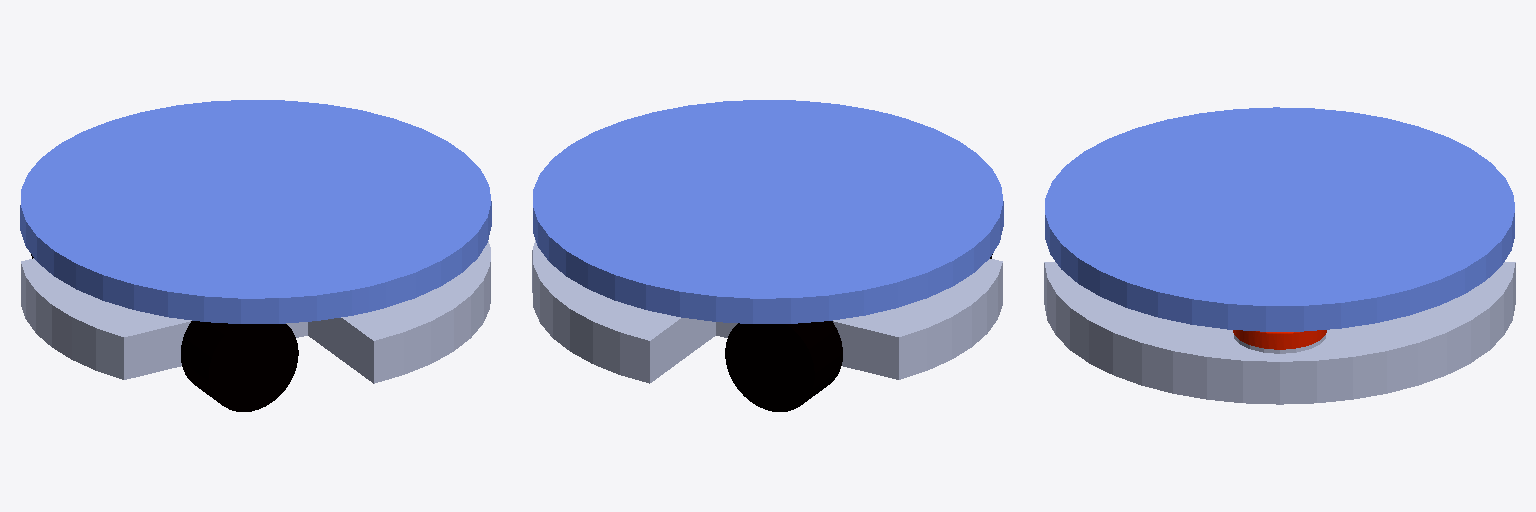
URDF robot description (diff_offset_robot):
<!-- ?xml version="1.0" encoding="utf-8"? -->
<!-- This URDF was automatically created by SolidWorks to URDF Exporter! Originally created by [author] ([email redacted]) 
     Commit Version: 1.6.0-4-g7f85cfe  Build Version: 1.6.7995.38578
     For more information, please see http://wiki.ros.org/sw_urdf_exporter -->
<robot
  name="diff_offset_robot">
  <link
    name="base_link">
    <inertial>
      <origin
        xyz="0.13872 4.8572E-17 0.00028145"
        rpy="0 0 0" />
      <mass
        value="7.674" />
      <inertia
        ixx="0.089217"
        ixy="-1.7267E-17"
        ixz="-0.00013721"
        iyy="0.12655"
        iyz="-9.8696E-20"
        izz="0.21249" />
    </inertial>
    <visual>
      <origin
        xyz="0 0 0"
        rpy="0 0 0" />
      <geometry>
        <mesh
          filename="package://model_robot/meshes/base_link.STL" />
      </geometry>
      <material
        name="">
        <color
          rgba="0.79216 0.81961 0.93333 1" />
      </material>
    </visual>
    <collision>
      <origin
        xyz="0 0 0"
        rpy="0 0 0" />
      <geometry>
        <mesh
          filename="package://model_robot/meshes/base_link.STL" />
      </geometry>
    </collision>
  </link>
  <link
    name="left_wheel_link">
    <inertial>
      <origin
        xyz="-2.2204E-16 1.0408E-16 0.03"
        rpy="0 0 0" />
      <mass
        value="0.5702" />
      <inertia
        ixx="0.00060227"
        ixy="3.0493E-20"
        ixz="2.7449E-20"
        iyy="0.00060227"
        iyz="1.0109E-20"
        izz="0.00086243" />
    </inertial>
    <visual>
      <origin
        xyz="0 0 0"
        rpy="0 0 0" />
      <geometry>
        <mesh
          filename="package://model_robot/meshes/left_wheel_link.STL" />
      </geometry>
      <material
        name="">
        <color
          rgba="0.019608 0 0 1" />
      </material>
    </visual>
    <collision>
      <origin
        xyz="0 0 0"
        rpy="0 0 0" />
      <geometry>
        <mesh
          filename="package://model_robot/meshes/left_wheel_link.STL" />
      </geometry>
    </collision>
  </link>
  <joint
    name="left_wheel_joint"
    type="continuous">
    <origin
      xyz="0 0.13 0"
      rpy="-1.5708 0.05745 0" />
    <parent
      link="base_link" />
    <child
      link="left_wheel_link" />
    <axis
      xyz="0 0 1" />
    <limit
      effort="100"
      velocity="100" />
    <dynamics
      damping="0.1"
      friction="0.1" />
  </joint>
  <link
    name="right_wheel_link">
    <inertial>
      <origin
        xyz="4.4409E-16 0 -0.03"
        rpy="0 0 0" />
      <mass
        value="0.5702" />
      <inertia
        ixx="0.00060227"
        ixy="3.7058E-22"
        ixz="2.7105E-20"
        iyy="0.00060227"
        iyz="4.2352E-22"
        izz="0.00086243" />
    </inertial>
    <visual>
      <origin
        xyz="0 0 0"
        rpy="0 0 0" />
      <geometry>
        <mesh
          filename="package://model_robot/meshes/right_wheel_link.STL" />
      </geometry>
      <material
        name="">
        <color
          rgba="0.019608 0 0 1" />
      </material>
    </visual>
    <collision>
      <origin
        xyz="0 0 0"
        rpy="0 0 0" />
      <geometry>
        <mesh
          filename="package://model_robot/meshes/right_wheel_link.STL" />
      </geometry>
    </collision>
  </link>
  <joint
    name="right_wheel_joint"
    type="continuous">
    <origin
      xyz="0 -0.13 0"
      rpy="-1.5708 0 0" />
    <parent
      link="base_link" />
    <child
      link="right_wheel_link" />
    <axis
      xyz="0 0 1" />
    <limit
      effort="100"
      velocity="100" />
    <dynamics
      damping="0.1"
      friction="0.1" />
  </joint>
  <link
    name="top_base_link">
    <inertial>
      <origin
        xyz="4.4409E-16 -1.5959E-16 0.043846"
        rpy="0 0 0" />
      <mass
        value="6.1261" />
      <inertia
        ixx="0.092849"
        ixy="2.2256E-18"
        ixz="-1.0728E-18"
        iyy="0.092849"
        iyz="-4.4795E-20"
        izz="0.18437" />
    </inertial>
    <visual>
      <origin
        xyz="0 0 0"
        rpy="0 0 0" />
      <geometry>
        <mesh
          filename="package://model_robot/meshes/top_base_link.STL" />
      </geometry>
      <material
        name="">
        <color
          rgba="0.48235 0.61176 1 1" />
      </material>
    </visual>
    <collision>
      <origin
        xyz="0 0 0"
        rpy="0 0 0" />
      <geometry>
        <mesh
          filename="package://model_robot/meshes/top_base_link.STL" />
      </geometry>
    </collision>
  </link>
  <joint
    name="top_base_joint"
    type="revolute">
    <origin
      xyz="0.11225 0 0.03"
      rpy="0 0 0" />
    <parent
      link="base_link" />
    <child
      link="top_base_link" />
    <axis
      xyz="0 0 1" />
    <limit
      lower="0"
      upper="6.2832"
      effort="100"
      velocity="100" />
    <dynamics
      damping="0.1"
      friction="0.1" />
  </joint>
  <link
    name="lidar_link">
    <inertial>
      <origin
        xyz="0 -6.9389E-18 0.0099837"
        rpy="0 0 0" />
      <mass
        value="0.15681" />
      <inertia
        ixx="0.00010306"
        ixy="-4.5175E-21"
        ixz="-1.1806E-21"
        iyy="0.00010306"
        iyz="5.8547E-22"
        izz="0.00019569" />
    </inertial>
    <visual>
      <origin
        xyz="0 0 0"
        rpy="0 0 0" />
      <geometry>
        <mesh
          filename="package://model_robot/meshes/lidar_link.STL" />
      </geometry>
      <material
        name="">
        <color
          rgba="0.94118 0.16863 0 1" />
      </material>
    </visual>
    <collision>
      <origin
        xyz="0 0 0"
        rpy="0 0 0" />
      <geometry>
        <mesh
          filename="package://model_robot/meshes/lidar_link.STL" />
      </geometry>
    </collision>
  </link>
  <joint
    name="lidar_joint"
    type="continuous">
    <origin
      xyz="0.29225 0 0.03"
      rpy="0 0 0" />
    <parent
      link="base_link" />
    <child
      link="lidar_link" />
    <axis
      xyz="0 0 1" />
    <limit
      effort="100"
      velocity="100" />
    <dynamics
      damping="0.1"
      friction="0.1" />
  </joint>

  <link
    name="caster_wheel_link">
    <inertial>
      <origin
        xyz="4.4409E-16 -1.6653E-16 0.01125"
        rpy="0 0 0" />
      <mass
        value="0.056549" />
      <inertia
        ixx="1.3201E-05"
        ixy="-8.4703E-22"
        ixz="6.364E-22"
        iyy="1.3201E-05"
        iyz="8.5178E-20"
        izz="2.0358E-05" />
    </inertial>
    <visual>
      <origin
        xyz="0 0 0"
        rpy="0 0 0" />
      <geometry>
        <mesh
          filename="package://model_robot/meshes/caster_wheel_link.STL" />
      </geometry>
      <material
        name="">
        <color
          rgba="0 0.74118 0.96078 1" />
      </material>
    </visual>
    <collision>
      <origin
        xyz="0 0 0"
        rpy="0 0 0" />
      <geometry>
        <mesh
          filename="package://model_robot/meshes/caster_wheel_link.STL" />
      </geometry>
    </collision>
  </link>
  <joint
    name="caster_wheel_joint"
    type="fixed">
    <origin
      xyz="0.23725 0 -0.025"
      rpy="-3.1416 0 -0.53405" />
    <parent
      link="base_link" />
    <child
      link="caster_wheel_link" />
    <axis
      xyz="0 0 0" />
    <dynamics
      damping="0"
      friction="0" />
  </joint> 

  <gazebo>
    <plugin name="two_wheeled_robot_diff_drive" filename="libgazebo_ros_diff_drive.so">
 
      <update_rate>100</update_rate>
      
      <!-- wheels -->
      <left_joint>left_wheel_joint</left_joint>
      <right_joint>right_wheel_joint</right_joint>
 
      <!-- kinematics -->
      <wheel_separation>0.32</wheel_separation>
      <wheel_diameter>0.11</wheel_diameter>
 
      <!-- limits -->
      <max_wheel_torque>20</max_wheel_torque>
      <max_wheel_acceleration>20.0</max_wheel_acceleration>
 
      <!-- Receive velocity commands on this ROS topic -->
      <command_topic>cmd_vel</command_topic>
 
      <!-- output -->
      <!-- When false, publish no wheel odometry data to a ROS topic -->
      <publish_odom>true</publish_odom>
 
      <!-- When true, publish coordinate transform from odom to base_footprint -->
      <!-- I usually use the robot_localization package to publish this transform -->  
      <publish_odom_tf>true</publish_odom_tf>
     
      <!-- When true, publish coordinate transform from base_link to the wheels -->
      <!-- The robot_state_publisher package is often used to publish this transform -->  
      <publish_wheel_tf>true</publish_wheel_tf>
 
      <odometry_topic>odom</odometry_topic>
      <odometry_frame>odom_link</odometry_frame>
      <robot_base_frame>base_link</robot_base_frame>
 
      <odometry_source>1</odometry_source>
      <ros>
        <remapping>odom:=wheel/odometry</remapping>
      </ros>
    </plugin>
  </gazebo>

  <gazebo>
    <plugin name="gazebo_ros_joint_state_publisher"
        filename="libgazebo_ros_joint_state_publisher.so">
        <update_rate>100</update_rate>
        <joint_name>top_base_joint</joint_name>
        <joint_name>lidar_joint</joint_name>
    </plugin>
  </gazebo>

</robot>

--- Render facts (derived) ---
3 views of the same robot in one strip: view 1: azimuth 30°, elevation 25°; view 2: azimuth 150°, elevation 25°; view 3: azimuth 270°, elevation 25° (orthographic).
Robot: diff_offset_robot — 6 links, 5 joints (1 revolute, 3 continuous, 1 fixed); root link base_link; default pose: every joint at zero.
Links seen in each view (by area): view 1: top_base_link, base_link, right_wheel_link; view 2: top_base_link, base_link, left_wheel_link; view 3: top_base_link, base_link, lidar_link.
Link boxes in pixels (bbox=[...]): top_base_link: bbox=[20, 100, 491, 323]; base_link: bbox=[21, 241, 490, 383]; right_wheel_link: bbox=[181, 321, 298, 411]; top_base_link: bbox=[533, 100, 1003, 323]; base_link: bbox=[532, 240, 1002, 383]; left_wheel_link: bbox=[725, 321, 842, 411]; top_base_link: bbox=[1045, 107, 1514, 331]; base_link: bbox=[1044, 262, 1515, 404]; lidar_link: bbox=[1233, 330, 1326, 349].
Size in the robot's own frame: 0.5 by 0.5 by 0.1449 metres.
6 mesh visuals loaded from 6 distinct referenced files (6 binary STL).
